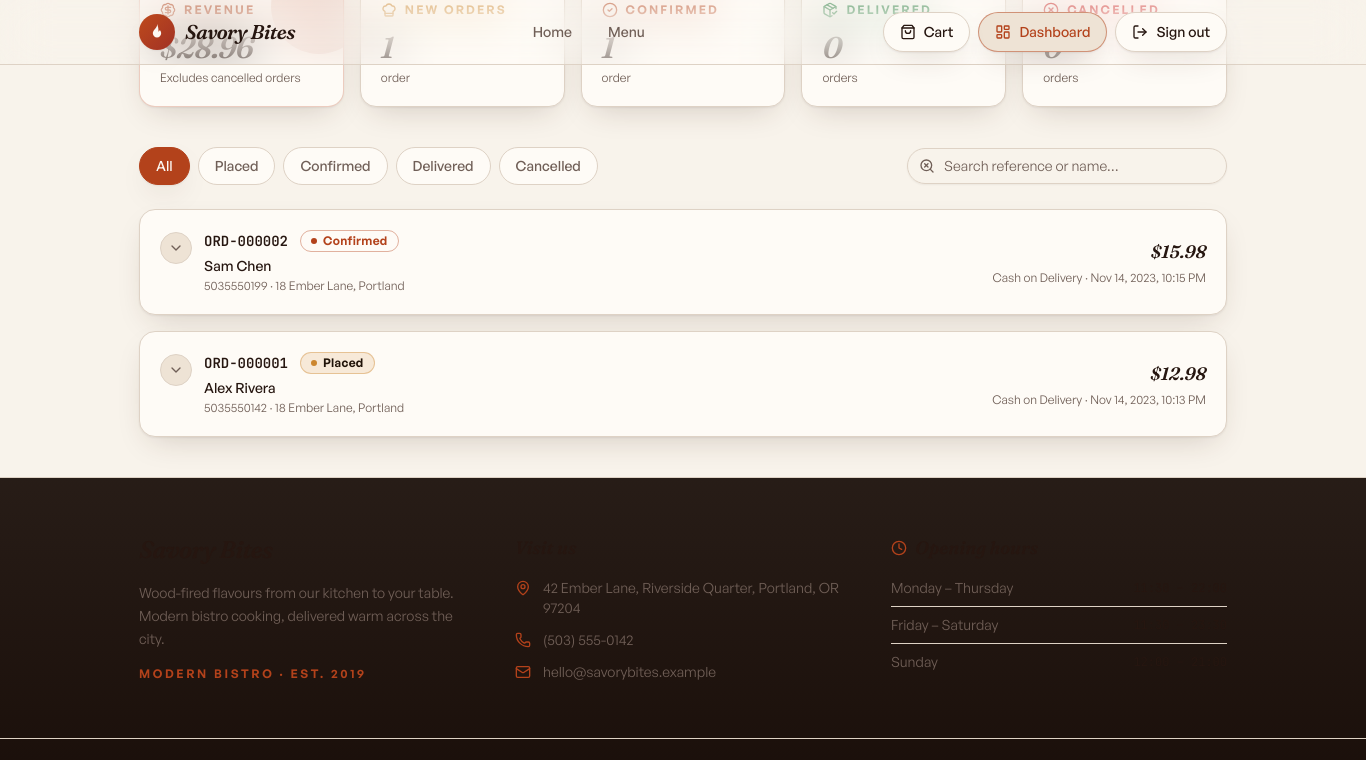
Scenario: admin dashboard › confirms a placed order and updates its status
(page scrolled)
Expected: the list with test id "admin.order.list" is shown, 139,209 -> 1227,437
Click the button with test id "admin.order.toggle.2": [176, 370] box 160,352 -> 976,416
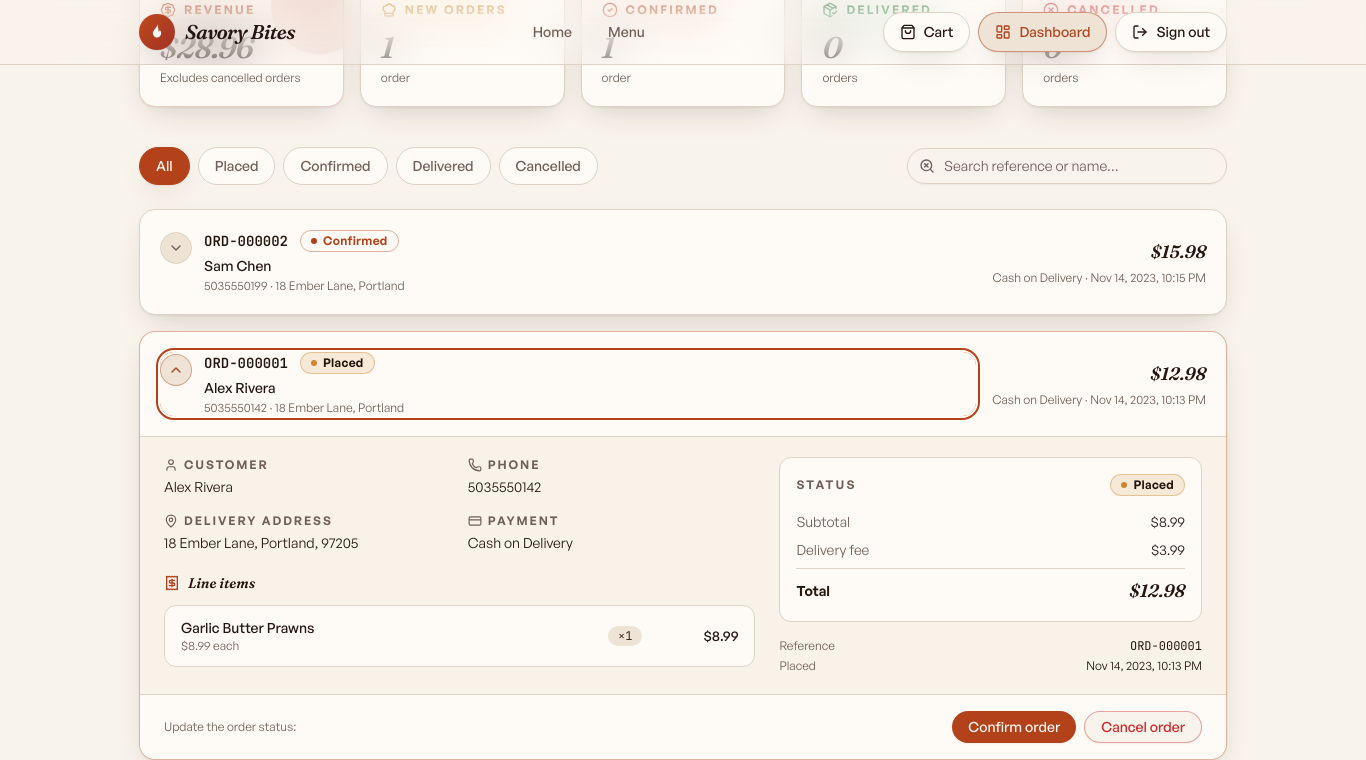
Click the button with test id "admin.order.action.confirmed.2": [1014, 727] box 952,711 -> 1076,743
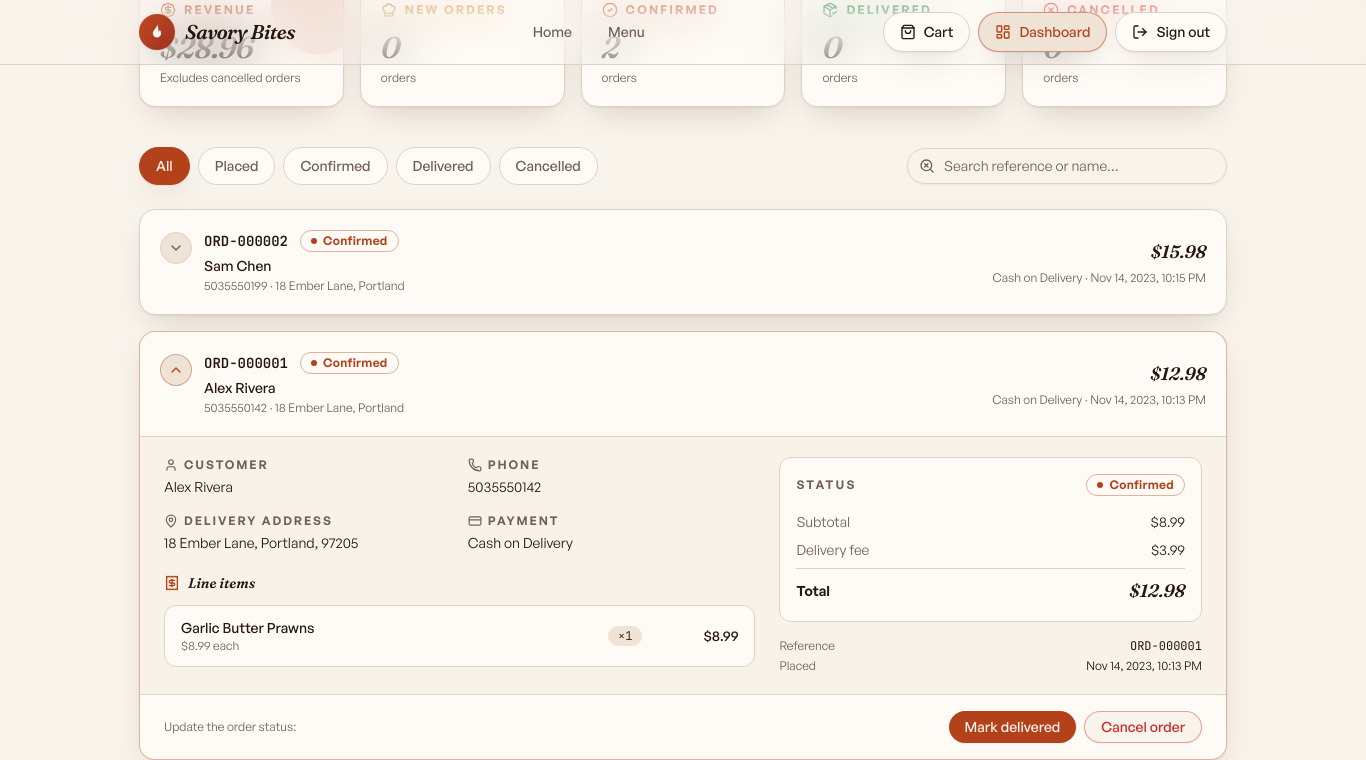
Expected: the element with test id "admin.order.status_badge.confirmed" is shown, 300,352 -> 398,374
